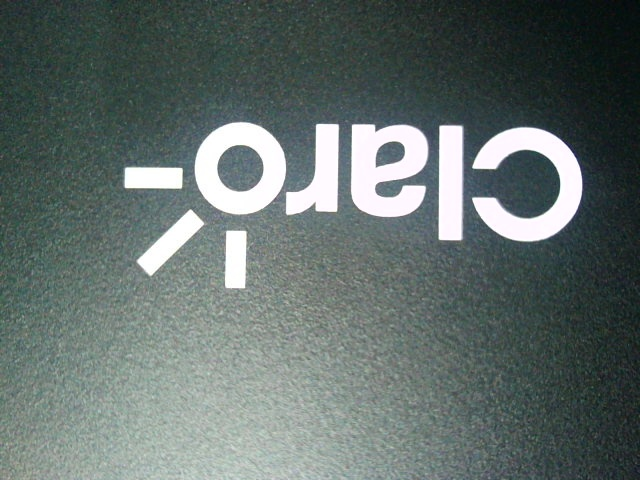BC_Claor: (113, 105, 590, 302)
